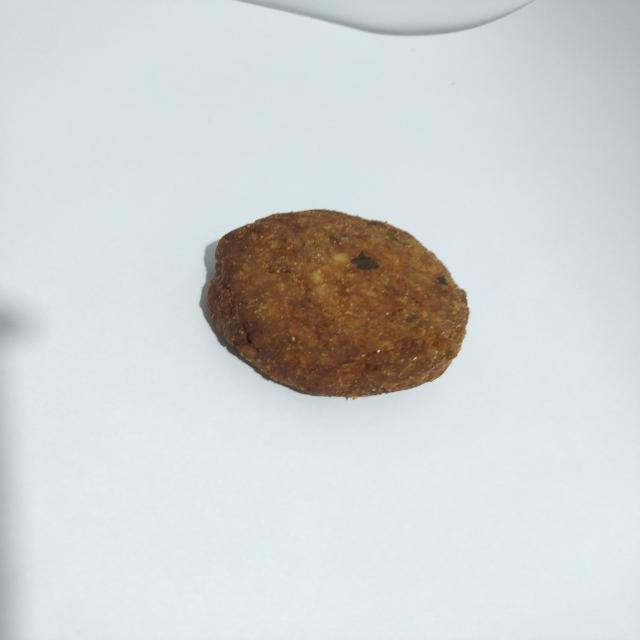Food: (192, 200, 478, 410)
